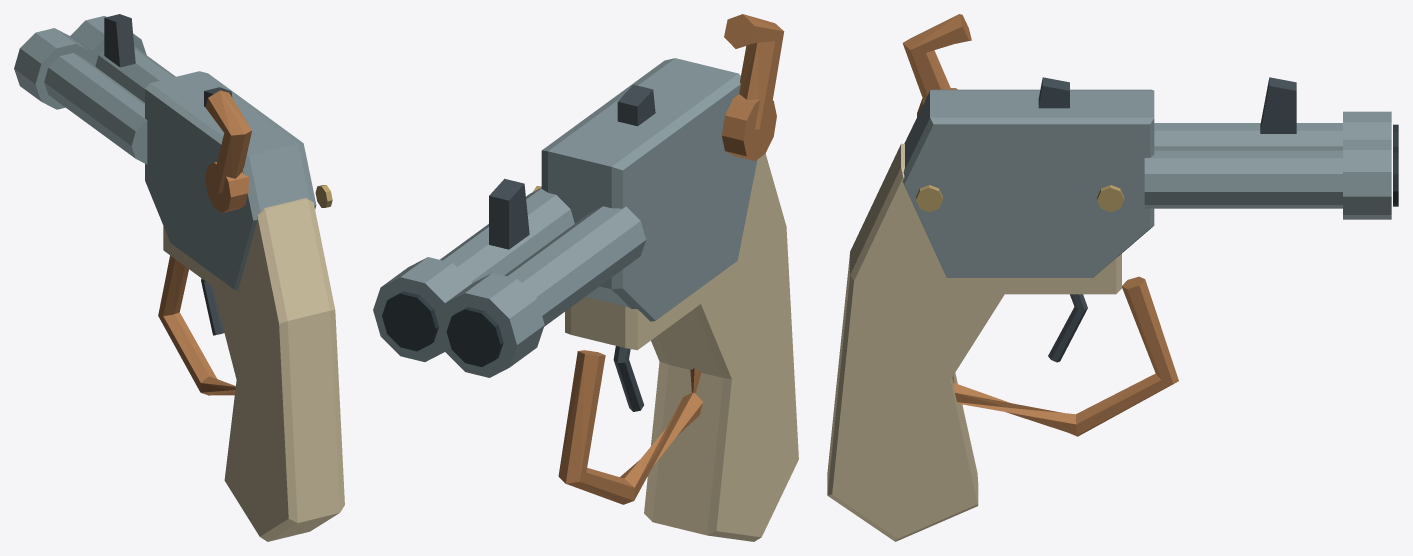
The model's file is AEW_Pistol_TwinVigil.fbx.
The picture shows the model from 3 angles, left to right: view 1: azimuth 30°, elevation 25°; view 2: azimuth 150°, elevation 25°; view 3: azimuth 270°, elevation 25°; orthographic projection. The views are drawn at different scales.
Visible parts, largest first — view 1: AEW_Pistol_TwinVigil; view 2: AEW_Pistol_TwinVigil; view 3: AEW_Pistol_TwinVigil.
Boxes of the visible parts, <box> form: AEW_Pistol_TwinVigil: <box>14,14,344,541</box>; AEW_Pistol_TwinVigil: <box>373,14,798,541</box>; AEW_Pistol_TwinVigil: <box>827,14,1398,541</box>.
Bounding box in the file's own units: 0.1293 × 0.4809 × 0.504.
